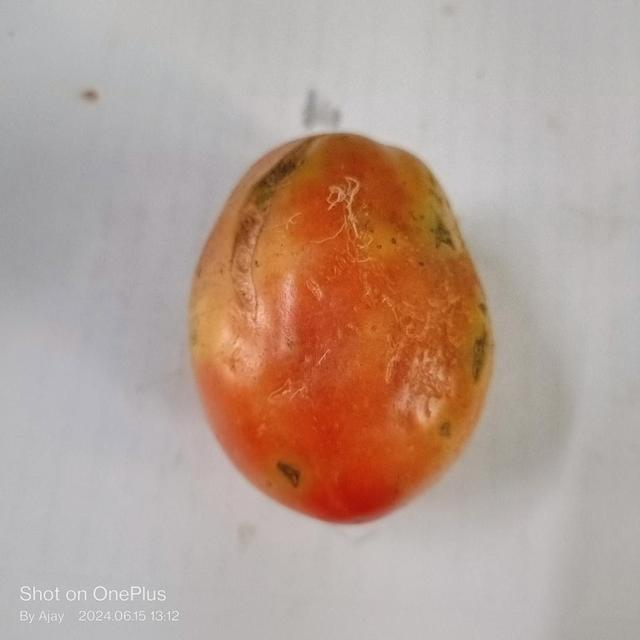Bacterial Spot Fruit: (13, 21, 320, 316)
